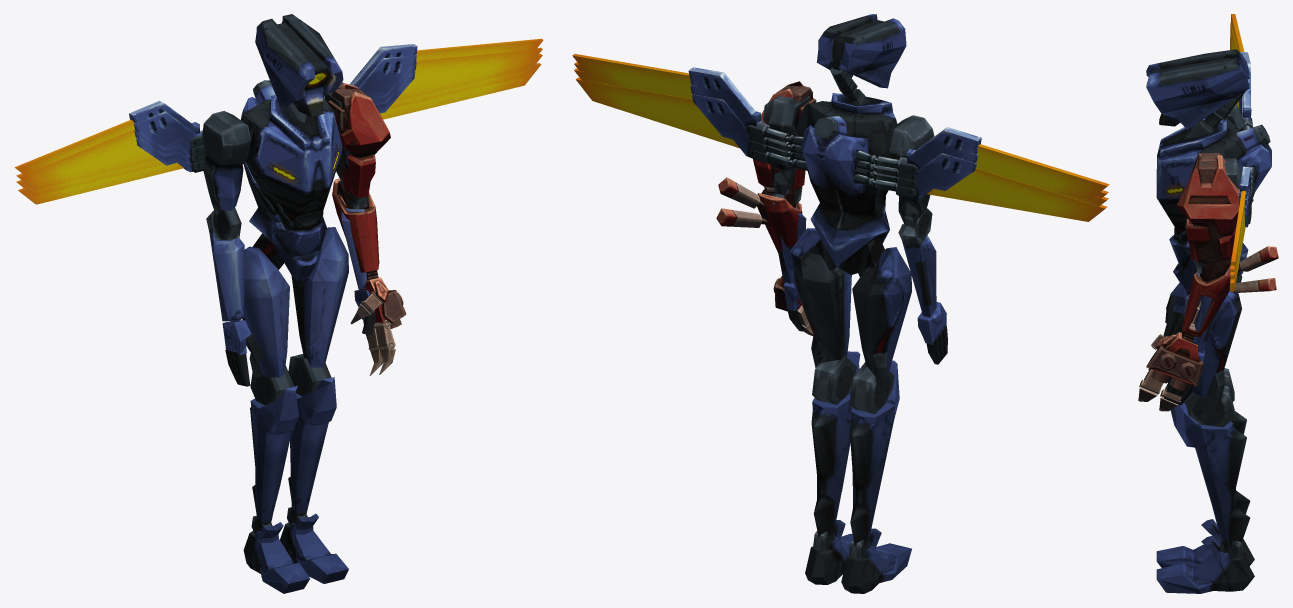
3 renders of one model, left to right at view 1: azimuth 30°, elevation 25°; view 2: azimuth 150°, elevation 25°; view 3: azimuth 270°, elevation 25°, orthographic. The views are drawn at different scales.
Visible parts, largest first — view 1: v1_mdl; view 2: v1_mdl; view 3: v1_mdl.
Boxes of the visible parts, x1,y1,x2,y2 form: v1_mdl: (14,14,543,593); v1_mdl: (572,14,1109,593); v1_mdl: (1138,14,1278,593).
Bounding box in the file's own units: 4.07 × 4 × 0.975.
3 materials, 3 textured.
